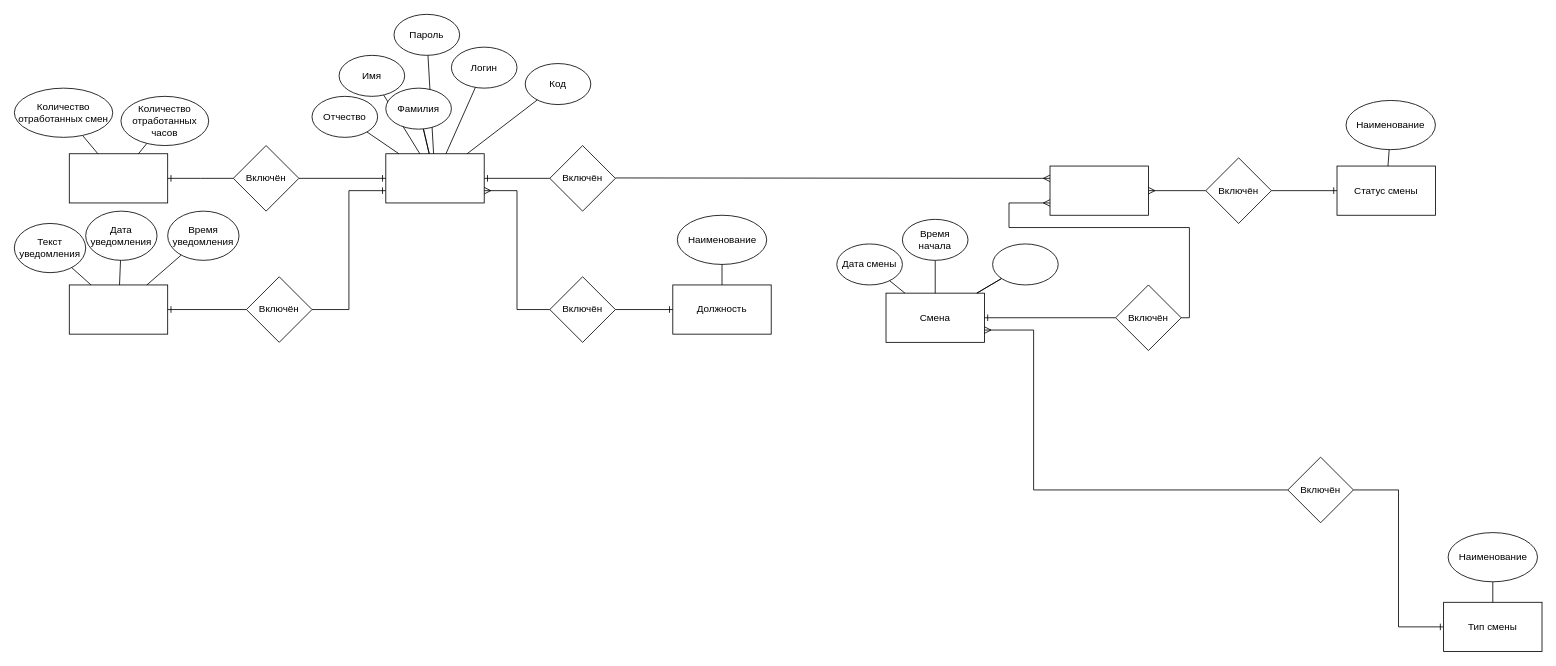
The diagram is 1556 pixels wide and 666 high, and some of its shapes have lost their labels. Here are the shapes that lost their labels. From the top down, the centre of each, then its label:
At (x=118, y=178): "Статистика".
At (x=434, y=178): "Сотрудник".
At (x=1098, y=190): "Назначение на смену".
At (x=1025, y=264): "Время окончания".
At (x=118, y=309): "Уведомление".
